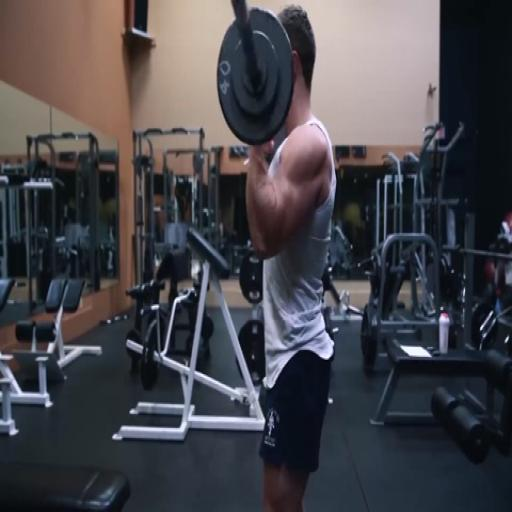exercise: (241, 3, 340, 510)
